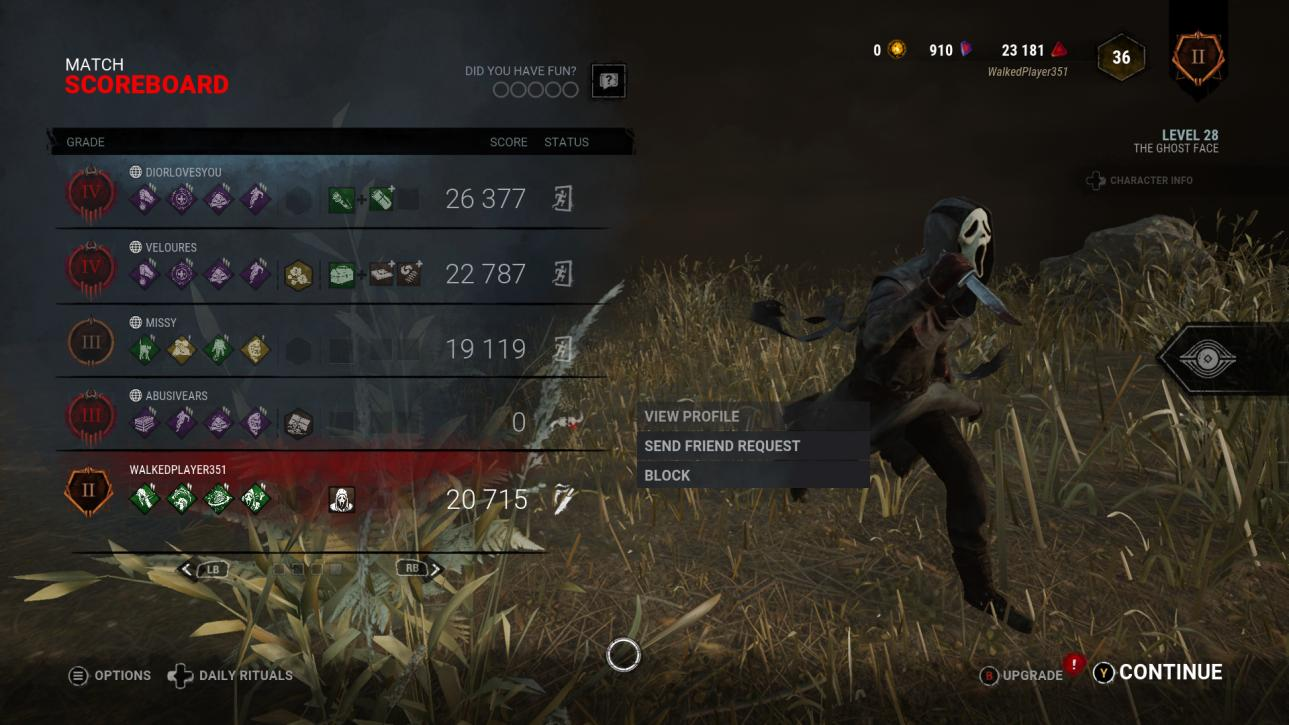borrowed_time: (127, 183, 161, 216), (127, 257, 161, 290)
circle_of_healing: (165, 182, 199, 215), (164, 257, 198, 290)
dead_hard: (238, 182, 272, 215), (239, 257, 273, 290), (165, 405, 199, 438)
empathy: (165, 332, 199, 365)
im_all_ears: (238, 482, 272, 515)
iron_will: (202, 182, 236, 215), (202, 257, 236, 290), (203, 407, 237, 440)
jolt: (202, 482, 236, 515)
plunderers_instinct: (127, 406, 161, 439)
spine_chill: (127, 333, 161, 366)
thrilling_tremors: (165, 482, 199, 515)
unbreakable: (238, 332, 272, 365), (239, 407, 273, 440)
unrelenting: (127, 482, 161, 515)
up_the_ante: (202, 332, 236, 365)
